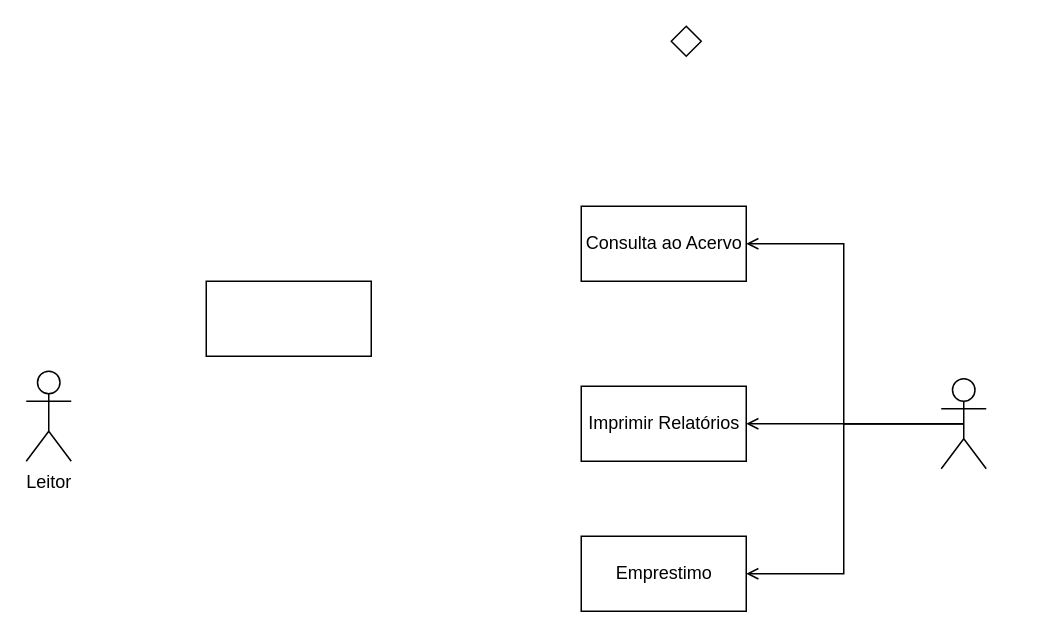
Some shapes in this 1038 by 638 pixel diagram are drawn without their labels. The shapes that lost their labels are listed below. From the top down, each one's centre as x and y in pixels, then its label:
At (x=288, y=318): "Reserva de Livros".
At (x=963, y=423): "Bibliotecario".
